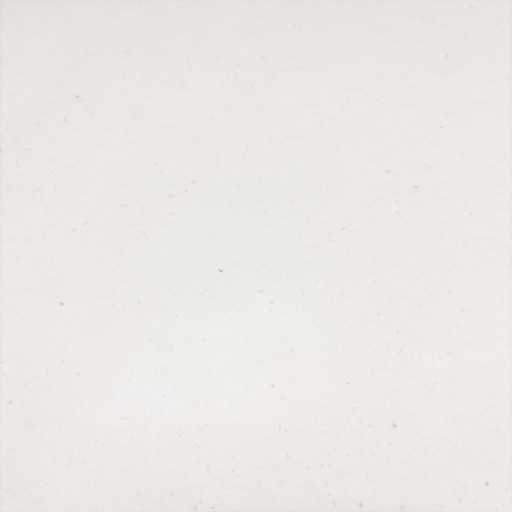lego: (222, 222, 290, 287)
